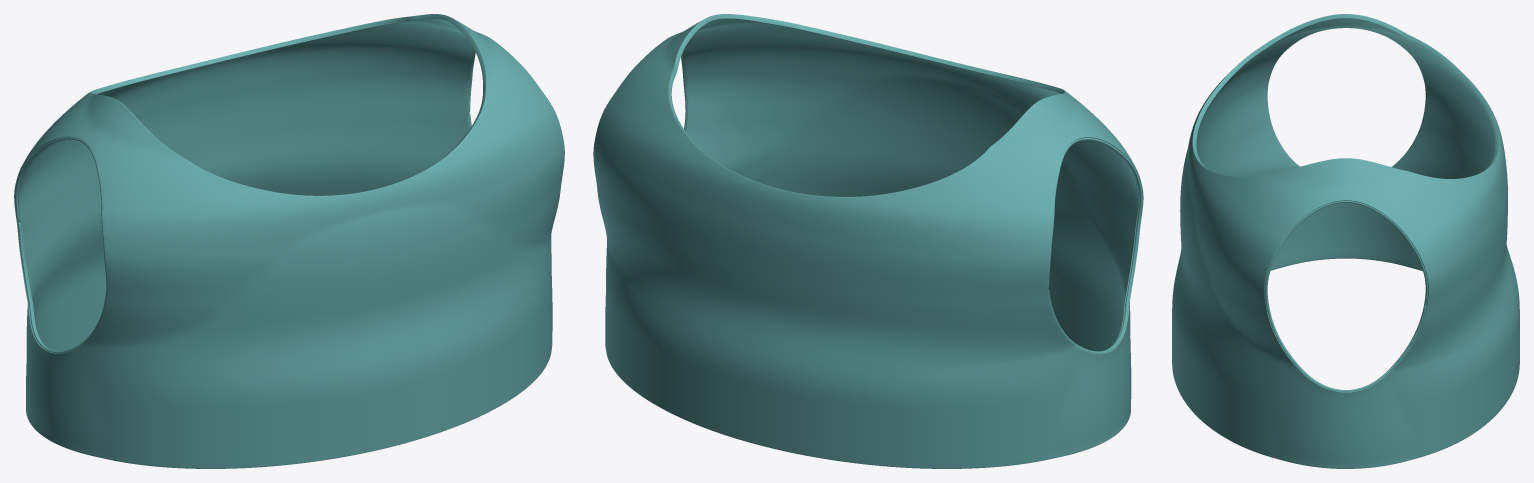
Rendered from Masculine-tank-top.glb.
The picture shows the model from 3 angles, left to right: view 1: azimuth 30°, elevation 25°; view 2: azimuth 150°, elevation 25°; view 3: azimuth 270°, elevation 25°; orthographic projection. The views are drawn at different scales.
Visible parts, largest first — view 1: Clothing / Tank189, Tank / clean binding189 1 export; view 2: Clothing / Tank189, Tank / clean binding189 1 export; view 3: Clothing / Tank189, Tank / clean binding189 0 export.
Part boxes in pixels (x1,y1,x2,y2): Clothing / Tank189: (14,14,564,468); Tank / clean binding189 1 export: (15,137,106,353); Clothing / Tank189: (593,14,1143,468); Tank / clean binding189 1 export: (1048,138,1142,353); Clothing / Tank189: (1172,14,1519,468); Tank / clean binding189 0 export: (1265,201,1427,391).
Bounding box in the file's own units: 0.6807 × 0.4134 × 0.4706.
